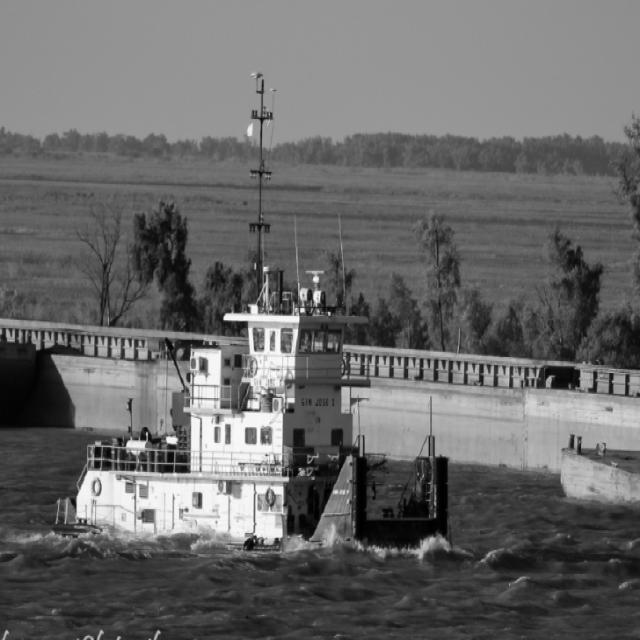tugboat: (51, 70, 456, 572)
